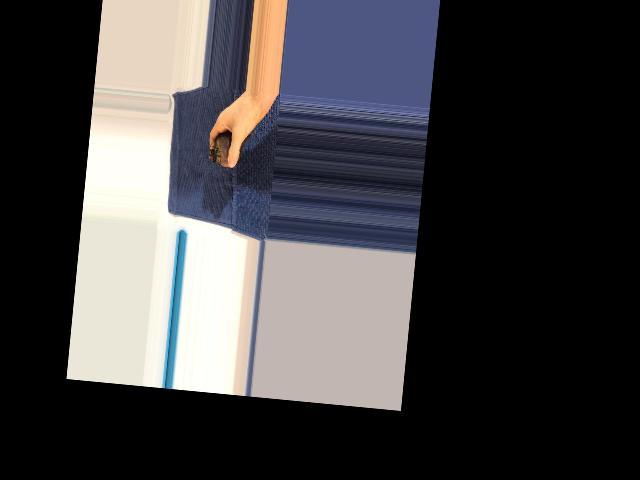beet: (208, 129, 254, 170)
